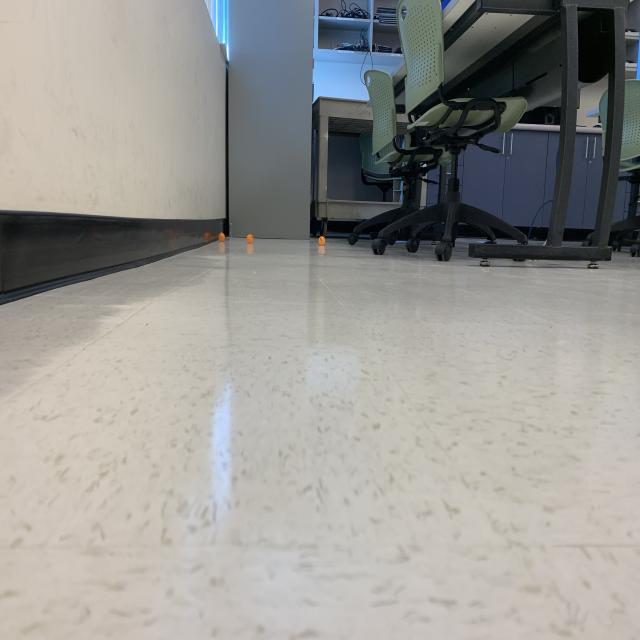ping-pong-ball: (217, 232, 225, 242), (246, 234, 254, 244), (318, 235, 326, 245)
